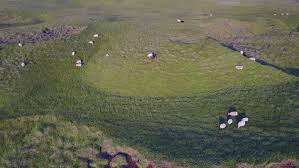sheep: (226, 110, 238, 118), (218, 121, 227, 131), (175, 18, 185, 26), (145, 51, 155, 59), (247, 55, 256, 63), (237, 120, 245, 129), (226, 117, 233, 126), (241, 116, 250, 123), (74, 63, 83, 69), (75, 57, 82, 64), (238, 49, 244, 57), (17, 41, 23, 48), (87, 40, 94, 46), (20, 61, 25, 68), (92, 32, 98, 37), (70, 51, 76, 55)
